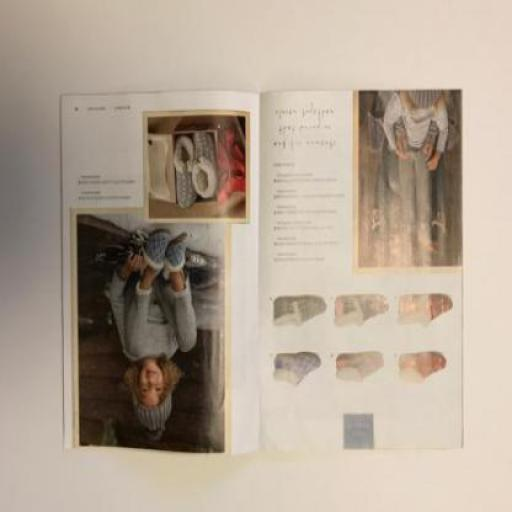paper: (62, 87, 464, 457), (260, 92, 462, 460), (61, 93, 264, 455)
